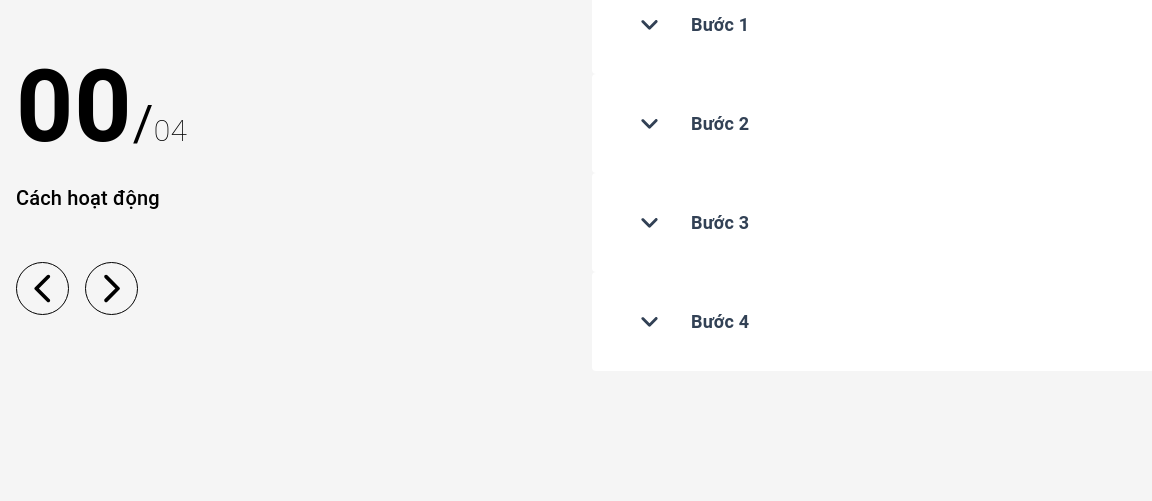
Test: Guide Component › Step Interaction › shows correct step description
Click the 5th button. click: x=112, y=288
box: [85,262,138,314]
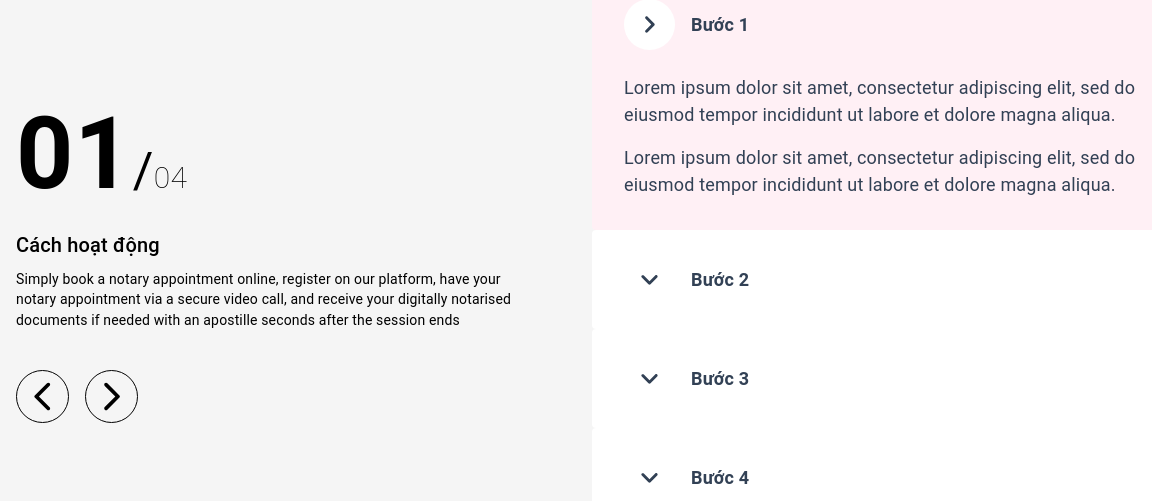
expect the text "Simply book a notary appointment" is shown: met, box [16,272,511,328]
